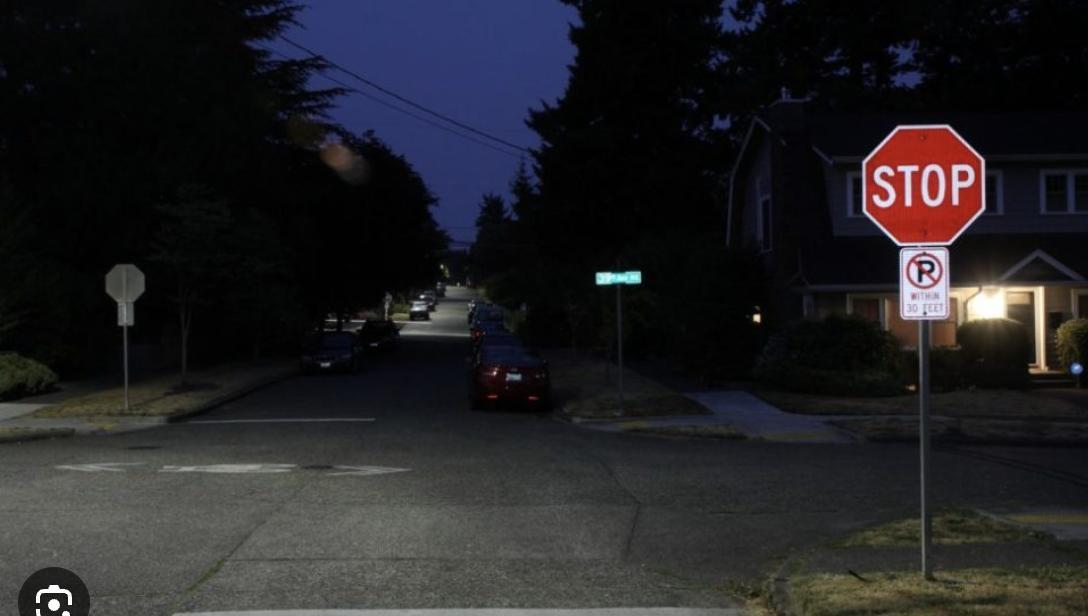Stop-Sign: (863, 126, 986, 246)
